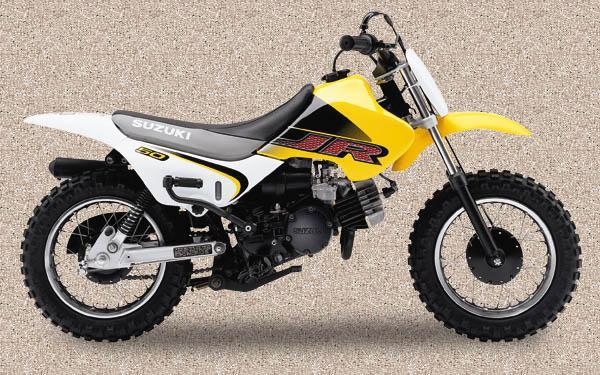motorcycle: (14, 4, 588, 362)
